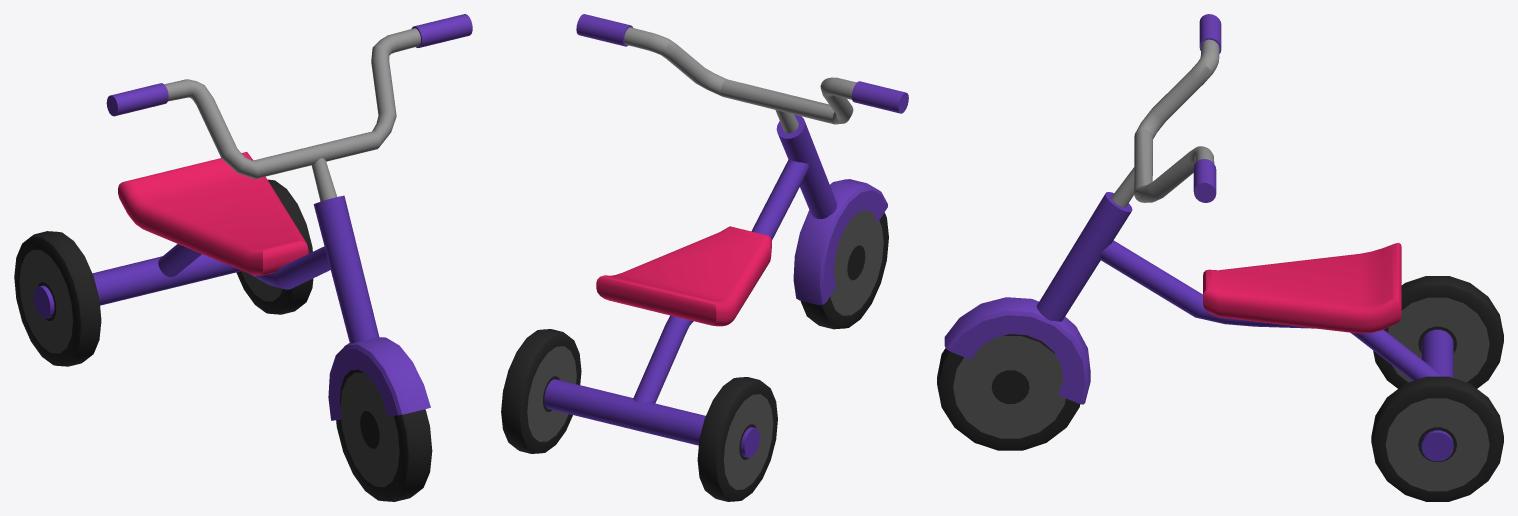
Rendered from Bicycle.fbx.
3 renders of one model, left to right at view 1: azimuth 30°, elevation 25°; view 2: azimuth 150°, elevation 25°; view 3: azimuth 270°, elevation 25°, orthographic. The views are drawn at different scales.
Parts seen in each view (by area): view 1: Bicycle; view 2: Bicycle; view 3: Bicycle.
Part boxes in pixels (box(x1,y1,x2,y2)): Bicycle: box(14, 14, 472, 501); Bicycle: box(501, 14, 908, 501); Bicycle: box(937, 14, 1503, 501).
Bounding box in the file's own units: 78.07 × 77.46 × 112.
Materials: 1 (1 with a texture image).
